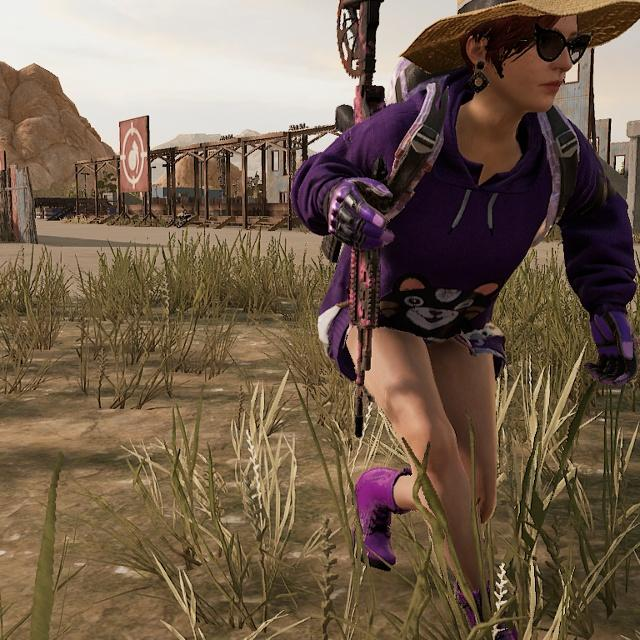head: (451, 0, 608, 118)
people: (312, 1, 640, 638)
